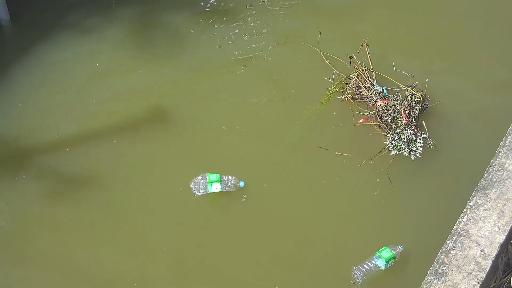plastic: (346, 243, 411, 275), (186, 170, 243, 195)
twig: (282, 34, 440, 171)
